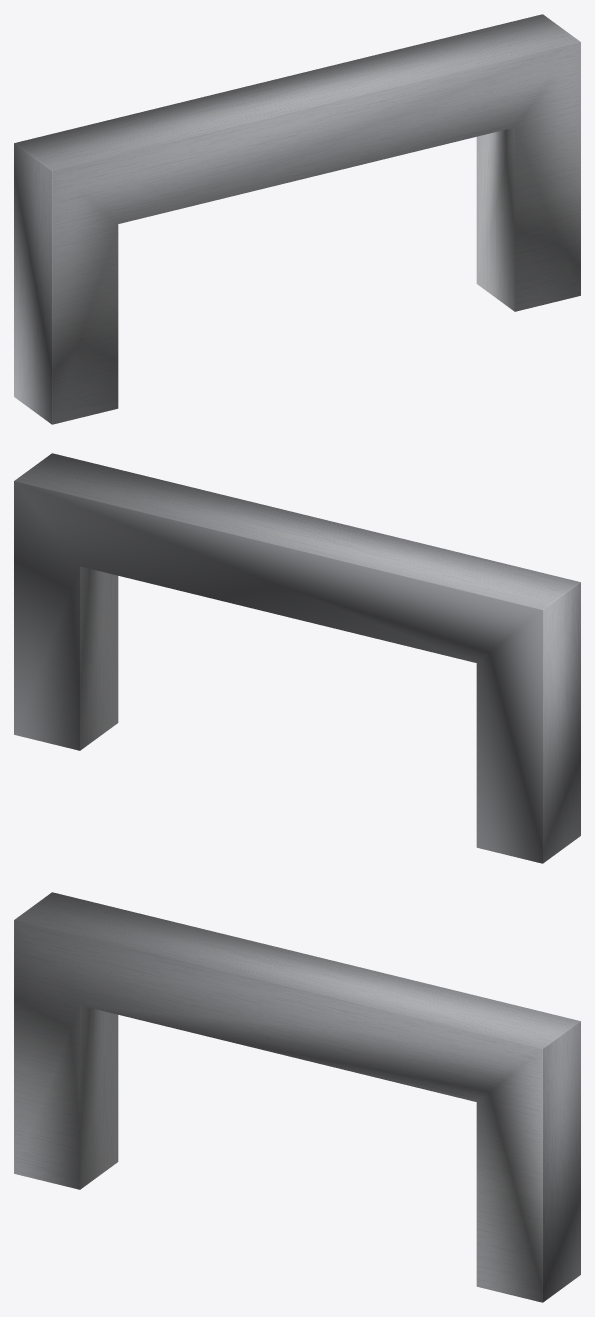
File: drawer_handle_visual.obj
3 renders of one model, top to bottom at view 1: azimuth 30°, elevation 25°; view 2: azimuth 150°, elevation 25°; view 3: azimuth 330°, elevation 25°, orthographic.
Visible parts, largest first — view 1: handle_drawer; view 2: handle_drawer; view 3: handle_drawer.
Part boxes in pixels (x1=…): handle_drawer: x1=14, y1=14, x2=580, y2=424; handle_drawer: x1=14, y1=453, x2=580, y2=863; handle_drawer: x1=14, y1=892, x2=580, y2=1302.
Bounding box in the file's own units: 0.12 × 0.055 × 0.015.
Materials: 1 (1 with a texture image).
